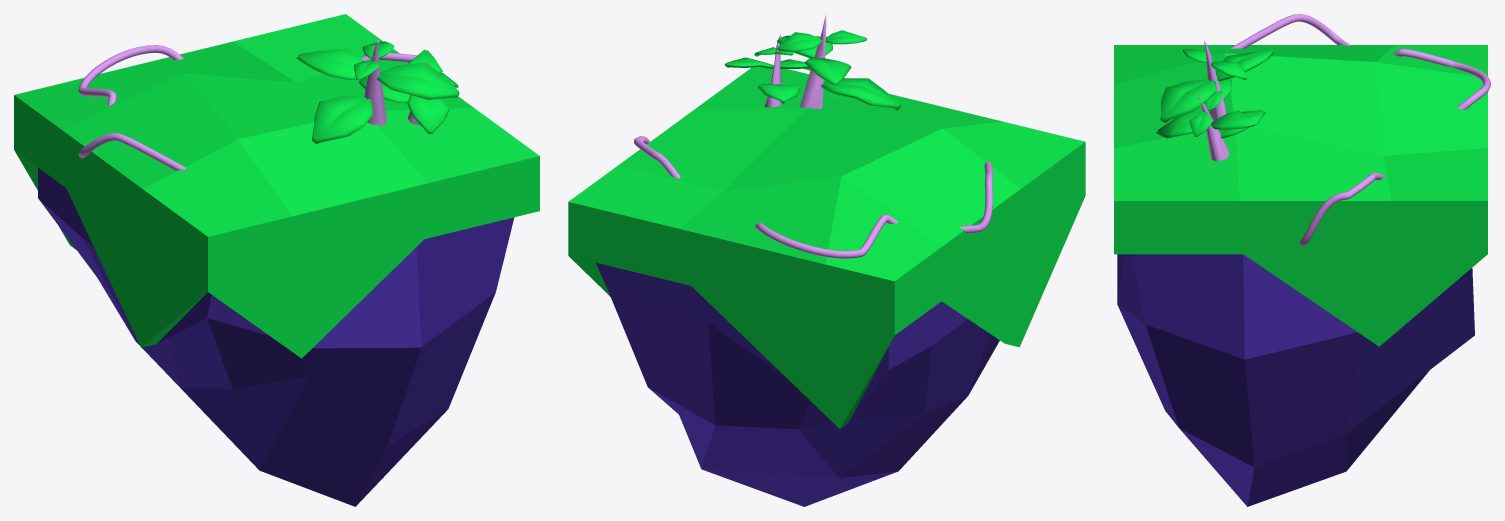
Rendered from ground1.fbx.
3 views of the same model, side by side, from view 1: azimuth 30°, elevation 25°; view 2: azimuth 150°, elevation 25°; view 3: azimuth 270°, elevation 25° (orthographic). The views are drawn at different scales.
Visible parts, largest first — view 1: BezierCurve.002; view 2: BezierCurve.002; view 3: BezierCurve.002.
Boxes of the visible parts, <box> form: BezierCurve.002: <box>14,14,539,506</box>; BezierCurve.002: <box>568,14,1085,506</box>; BezierCurve.002: <box>1114,14,1490,506</box>.
Size of the model in its own units: 511 by 666 by 487.
